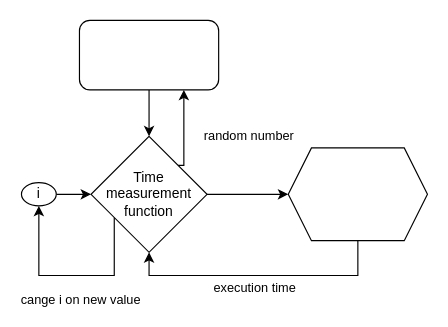
The diagram is 448 pixels wide and 327 high, and some of its shapes have lost their labels. Here are the shapes that lost their labels. From the top down, the box of each, then its label:
(78, 19, 219, 90): RNG - request
(287, 147, 427, 241): Calculation(i times)
